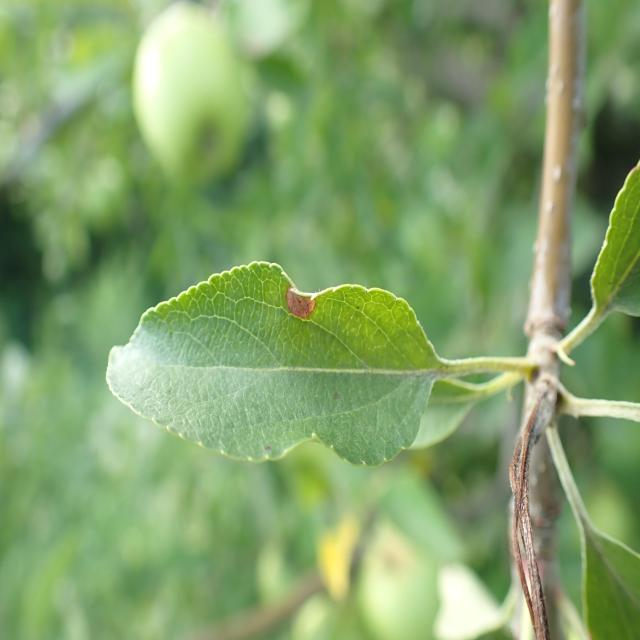Black Rot: (261, 261, 325, 340)
